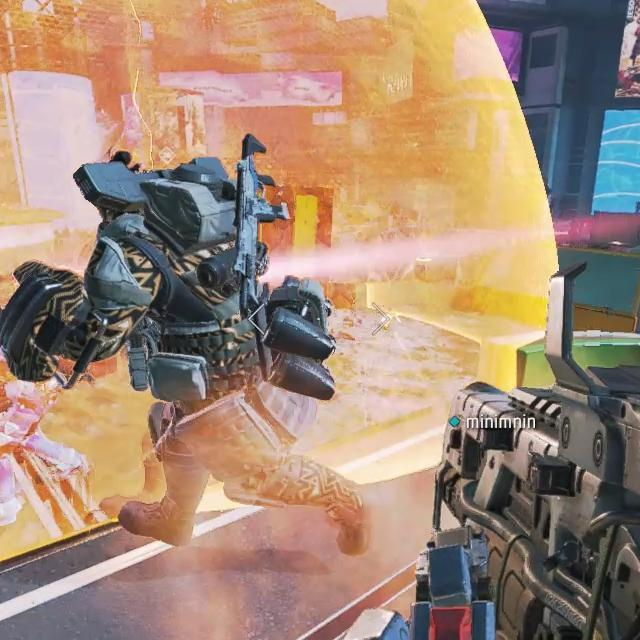avatar: (0, 148, 369, 558)
